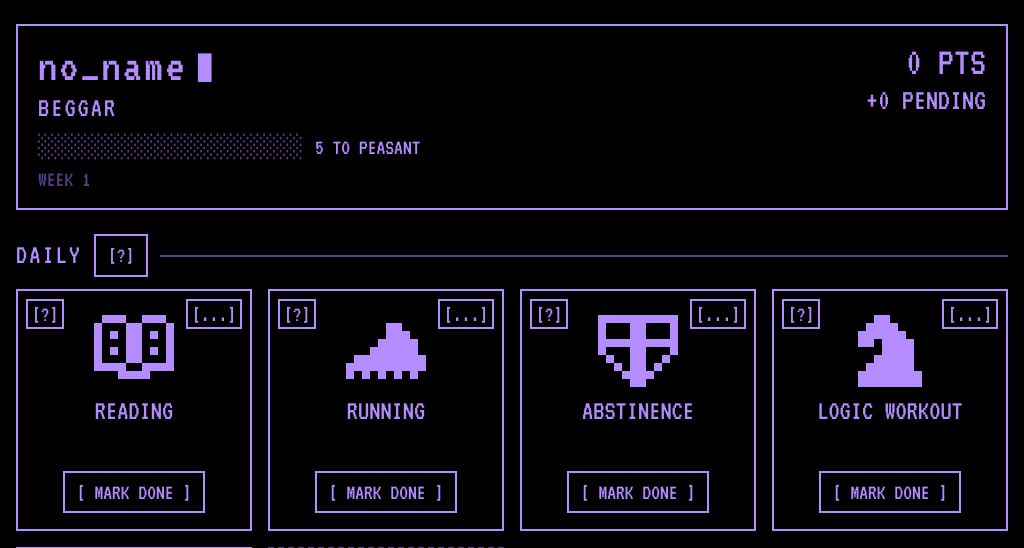
it: App › marks a daily task done and undoes it
The image size is (1024, 548).
Click the button "[ MARK DONE ]" below "READING": (134, 492) [63,471,205,513]
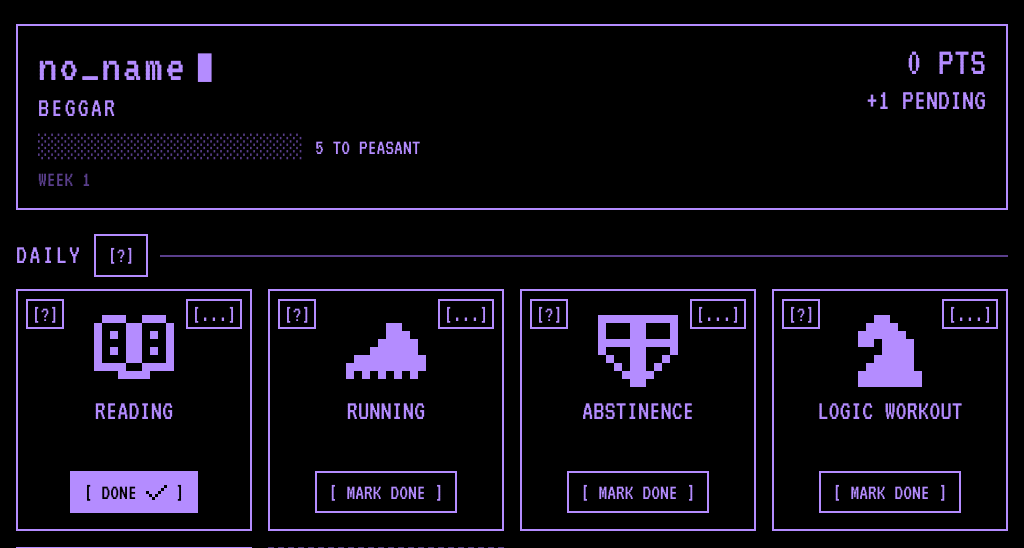
Expected: the text "+1 PENDING" is shown, [866,82,986,118]
Click the button "[ DONE ]": (134, 492) [70,471,198,513]
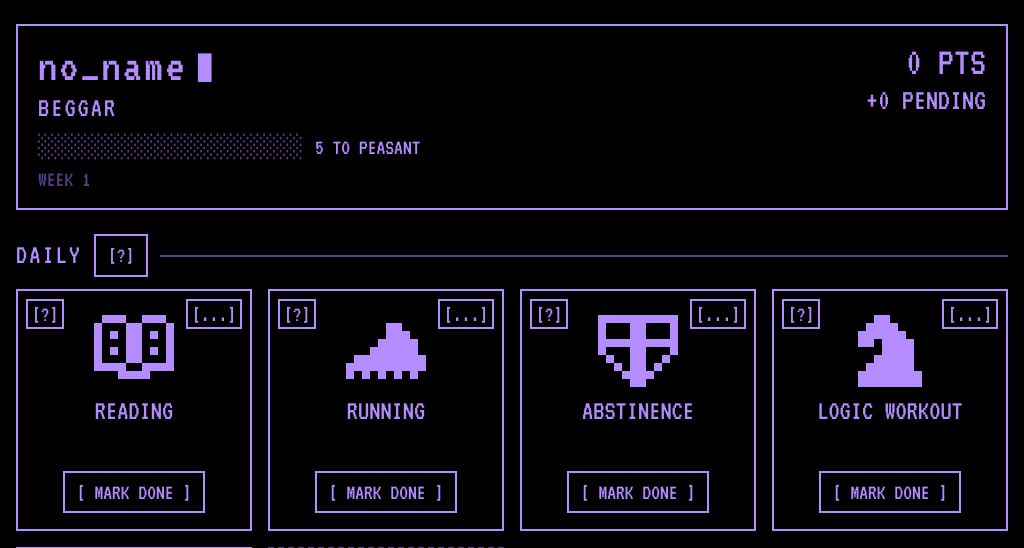
Expected: the button "[ MARK DONE ]" below "READING" is shown, [63,471,205,513]
Expected: the text "+0 PENDING" is shown, [866,82,986,118]
